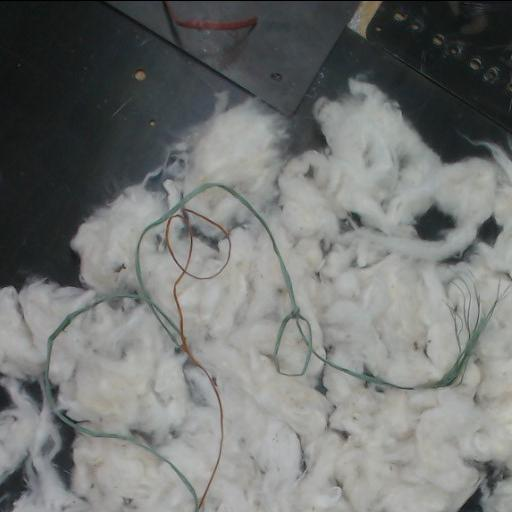conveyor belt: (0, 1, 511, 288), (0, 374, 41, 512), (288, 109, 322, 154), (53, 420, 73, 485), (416, 209, 454, 238), (479, 217, 500, 242), (459, 490, 482, 512)
cotton: (0, 79, 511, 512), (52, 302, 219, 478), (140, 236, 181, 320), (192, 240, 221, 275), (176, 240, 188, 263), (191, 289, 201, 307)
thread: (42, 182, 482, 512), (162, 1, 256, 40)
